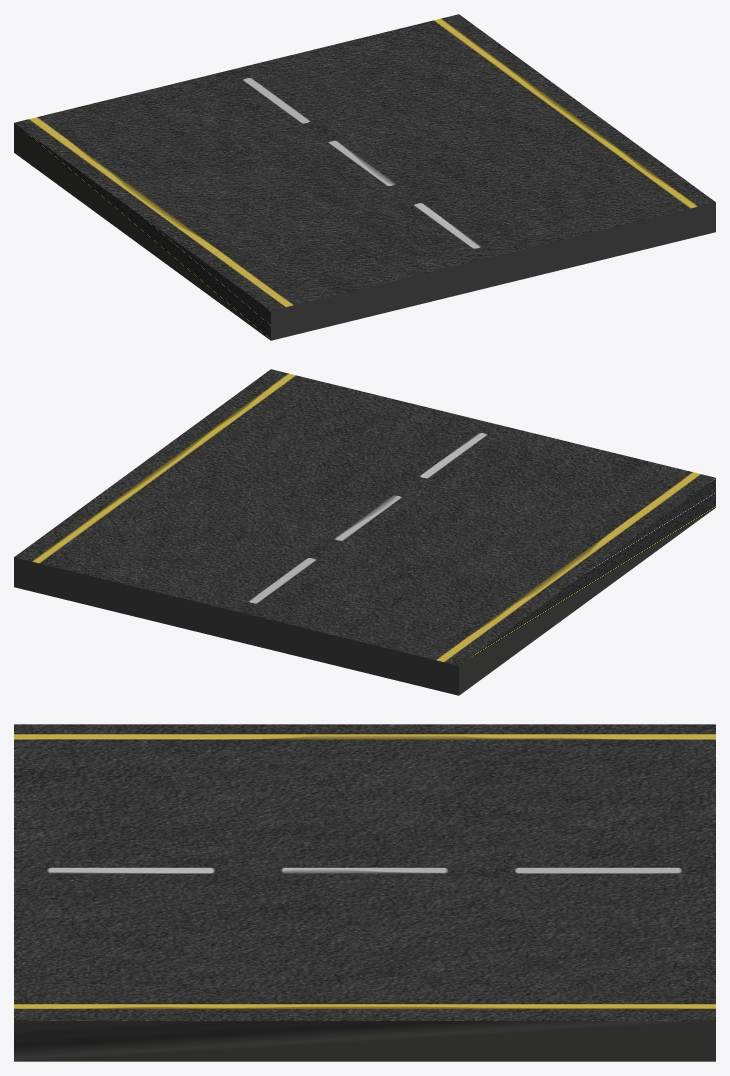
Rendered from Road Tile.fbx.
The picture shows the model from 3 angles, top to bottom: view 1: azimuth 30°, elevation 25°; view 2: azimuth 150°, elevation 25°; view 3: azimuth 270°, elevation 25°; orthographic projection. The views are drawn at different scales.
Parts seen in each view (by area): view 1: Cube; view 2: Cube; view 3: Cube.
Part boxes in pixels (bbox=[...]): Cube: bbox=[14, 14, 715, 340]; Cube: bbox=[14, 369, 715, 695]; Cube: bbox=[14, 724, 715, 1061].
Size of the model in its own units: 200 by 12.85 by 200.
